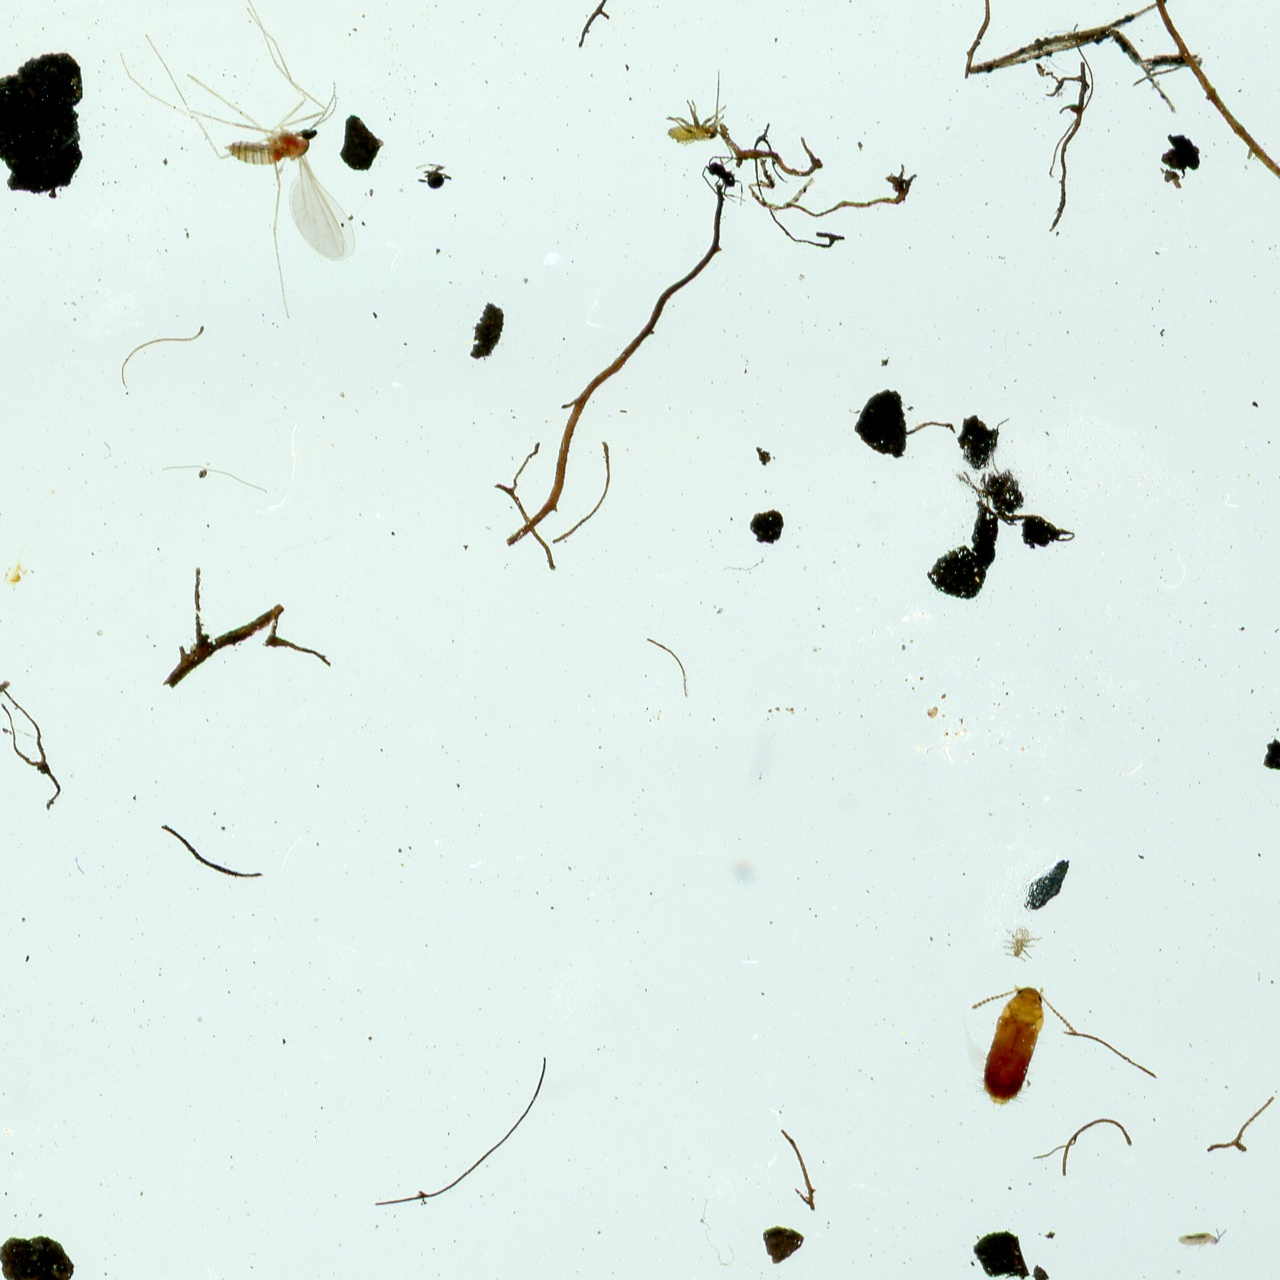arthropod: (109, 0, 360, 326), (948, 972, 1089, 1128), (662, 66, 727, 150), (996, 919, 1044, 968), (1173, 1224, 1231, 1254)
